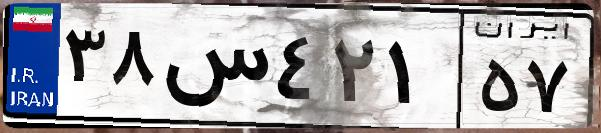1: (385, 28, 445, 110)
2: (330, 28, 385, 110)
3: (57, 26, 110, 100)
4: (270, 28, 330, 110)
5: (475, 38, 525, 113)
7: (525, 38, 570, 115)
8: (110, 28, 158, 98)
س: (158, 20, 270, 120)
